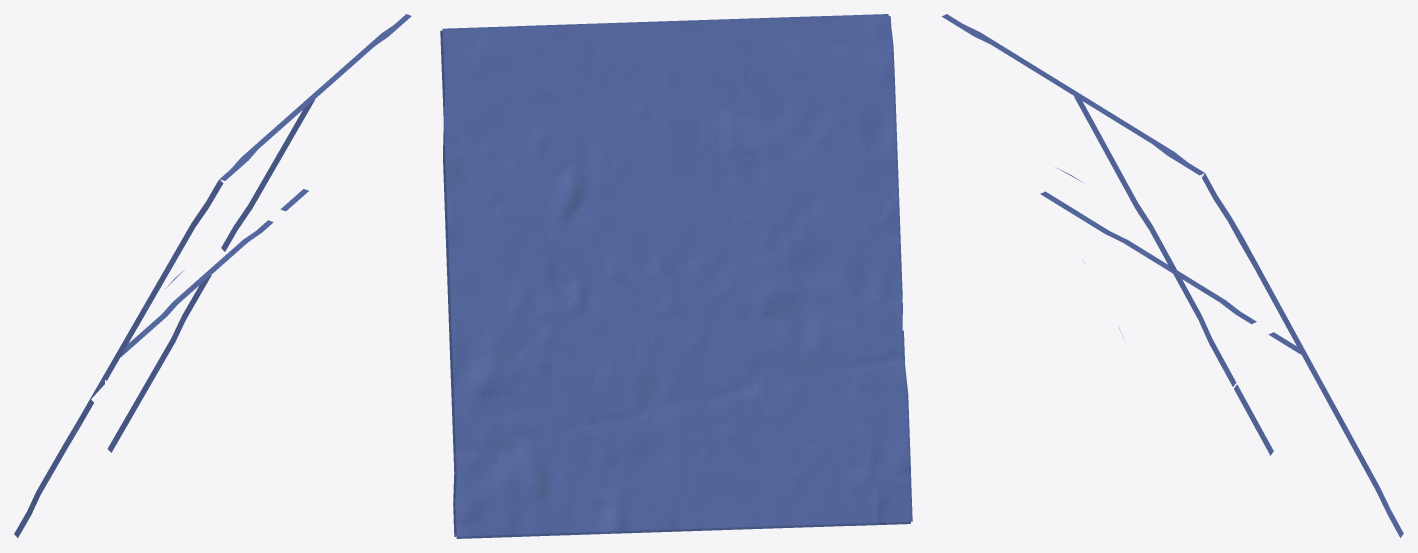
The picture shows the model from 3 angles, left to right: view 1: azimuth 30°, elevation 25°; view 2: azimuth 150°, elevation 25°; view 3: azimuth 270°, elevation 25°; orthographic projection. The views are drawn at different scales.
Bounding box in the file's own units: 157332 × 140744 × 140157.
Materials: 1 (1 with a texture image).
